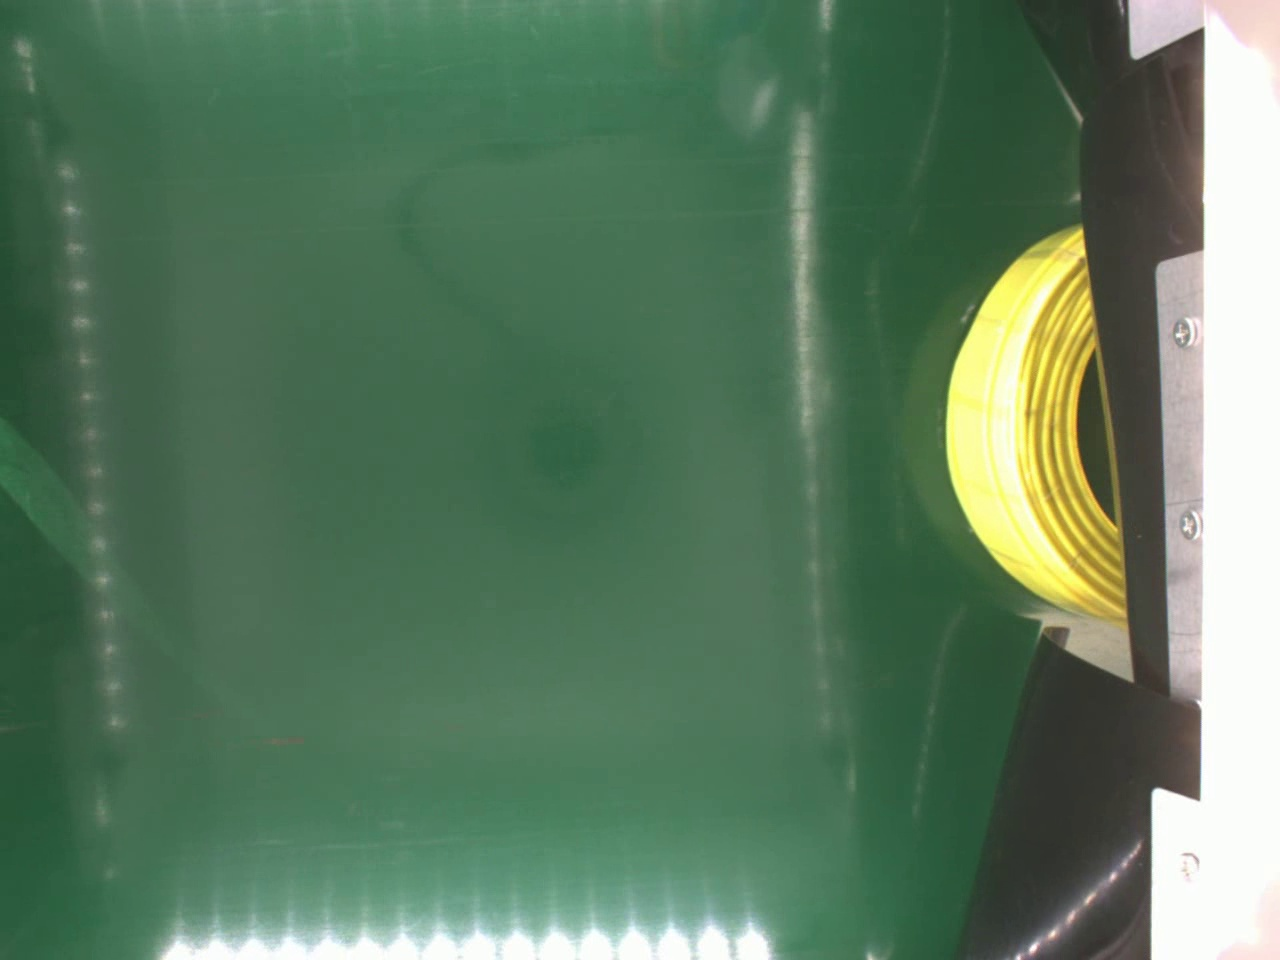yellow: (940, 220, 1127, 619)
